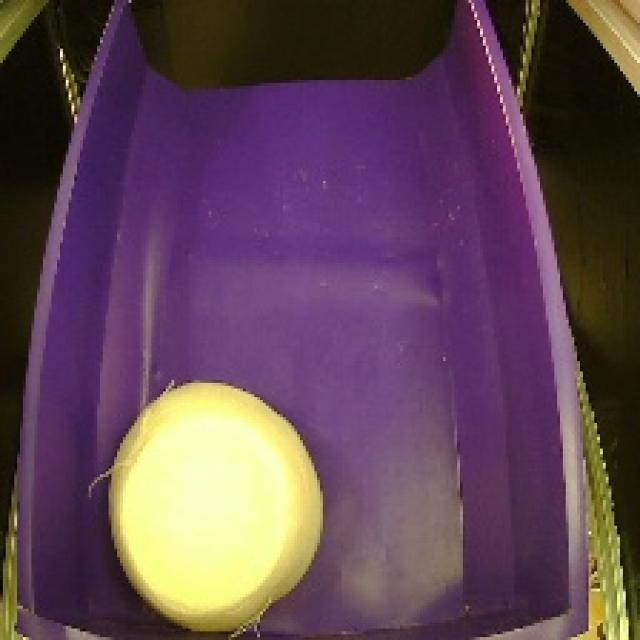white_radish: (95, 357, 332, 640)
